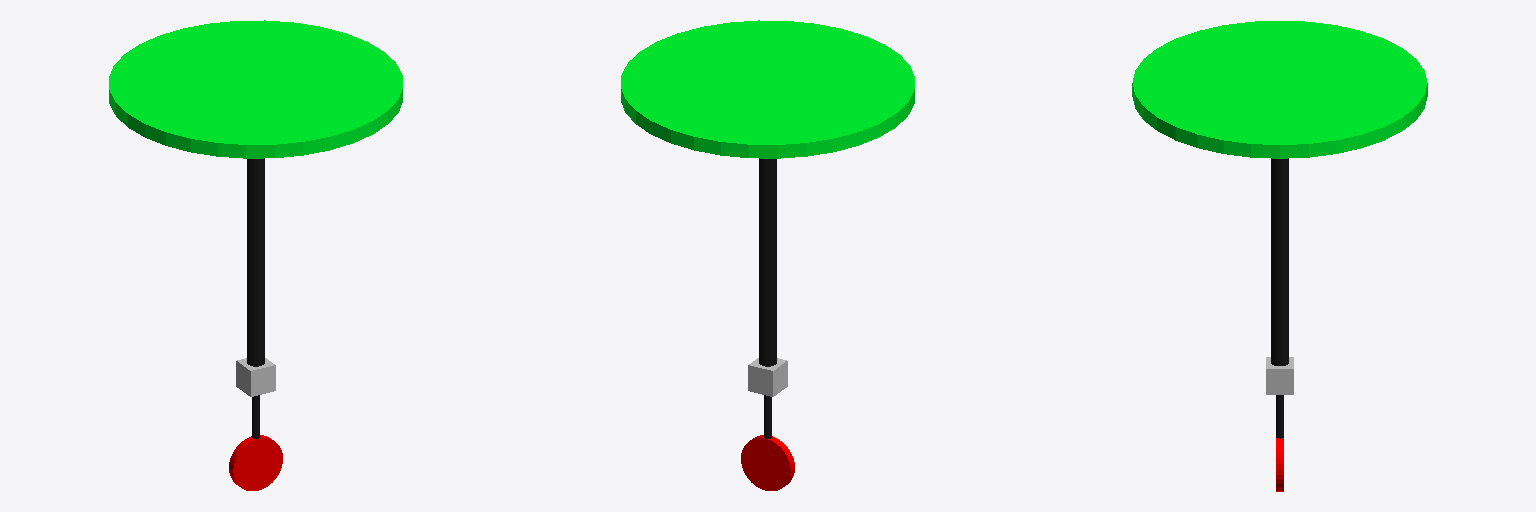
robot.urdf — turtlebot:
<?xml version="1.0" ?>
<!-- =================================================================================== -->
<!-- |    This document was autogenerated by xacro from potential_fields/urdf/robot.urdf.xacro | -->
<!-- |    EDITING THIS FILE BY HAND IS NOT RECOMMENDED                                 | -->
<!-- =================================================================================== -->
<robot name="turtlebot">
  <!-- Turtle Links -->
  <link name="base_link">
    <visual>
      <geometry>
        <box size="0.15 0.15 0.15"/>
      </geometry>
      <material name="transparent_mat">
        <color rgba="0.8 0.8 0.8 0.5"/>
      </material>
    </visual>
    <collision>
      <geometry>
        <box size="0.15 0.15 0.15"/>
      </geometry>
      <!-- defaults to origin (0 0 0) relative to link frame -->
    </collision>
  </link>
  <link name="stem">
    <visual>
      <geometry>
        <cylinder length="1.5725" radius="0.047175"/>
      </geometry>
      <material name="grey_mat">
        <color rgba="0.128 0.128 0.128 1"/>
      </material>
    </visual>
    <collision>
      <geometry>
        <cylinder length="1.5725" radius="0.047175"/>
      </geometry>
    </collision>
  </link>
  <link name="wheel_stem">
    <visual>
      <geometry>
        <cylinder length="0.2775" radius="0.0225"/>
      </geometry>
      <material name="grey_mat">
        <color rgba="0.128 0.128 0.128 1"/>
      </material>
    </visual>
    <collision>
      <geometry>
        <cylinder length="0.2775" radius="0.0225"/>
      </geometry>
    </collision>
  </link>
  <link name="platform">
    <visual>
      <geometry>
        <cylinder length="0.078625" radius="0.770525"/>
      </geometry>
      <material name="green_mat">
        <color rgba="0 1 0.2 1"/>
      </material>
    </visual>
    <collision>
      <geometry>
        <cylinder length="0.078625" radius="0.770525"/>
      </geometry>
    </collision>
  </link>
  <link name="wheel">
    <visual>
      <geometry>
        <cylinder length="0.045" radius="0.15"/>
      </geometry>
      <material name="black_mat">
        <color rgba="1 0 0 1"/>
      </material>
    </visual>
    <collision>
      <geometry>
        <cylinder length="0.045" radius="0.15"/>
      </geometry>
    </collision>
  </link>
  <!-- Joints -->
  <joint name="base_to_stem" type="fixed">
    <parent link="base_link"/>
    <child link="stem"/>
    <origin xyz="0.0 0.0 0.86125"/>
  </joint>
  <joint name="stem_to_platform" type="continuous">
    <parent link="stem"/>
    <child link="platform"/>
    <axis xyz="0.0 1.0 0.0"/>
    <origin xyz="0.0 0.0 0.78625"/>
  </joint>
  <joint name="base_to_wheel_stem" type="continuous">
    <parent link="base_link"/>
    <child link="wheel_stem"/>
    <axis xyz="0.0 0.0 1.0"/>
    <origin xyz="0.0 0.0 -0.21375"/>
  </joint>
  <joint name="wheel_stem_to_wheel" type="continuous">
    <parent link="wheel_stem"/>
    <child link="wheel"/>
    <origin rpy="1.5707963267948966 0.0 0.0" xyz="0.0 0.0 -0.28875"/>
    <axis xyz="0.0 0.0 1.0"/>
  </joint>
</robot>

--- What the picture shows (computed from the rendered views, not written in the file) ---
3 views of the same robot in one strip: view 1: azimuth 30°, elevation 25°; view 2: azimuth 150°, elevation 25°; view 3: azimuth 270°, elevation 25° (orthographic).
Model turtlebot with 5 links and 4 joints (3 continuous, 1 fixed), rooted at base_link, posed every joint at zero.
Links seen in each view (by area): view 1: platform, stem, wheel, base_link; view 2: platform, stem, wheel, base_link; view 3: platform, stem, base_link.
Boxes of the visible links, <box> form: platform: <box>109,20,402,158</box>; stem: <box>247,158,264,366</box>; wheel: <box>229,435,282,490</box>; base_link: <box>236,358,275,396</box>; platform: <box>621,20,914,158</box>; stem: <box>759,158,776,366</box>; wheel: <box>741,435,794,490</box>; base_link: <box>748,358,787,396</box>; platform: <box>1132,21,1427,158</box>; stem: <box>1271,158,1288,365</box>; base_link: <box>1266,357,1293,394</box>.
Size in the robot's own frame: 1.54 by 1.54 by 2.34 metres.
Geometry: primitives only (box / cylinder / sphere), no mesh files.
